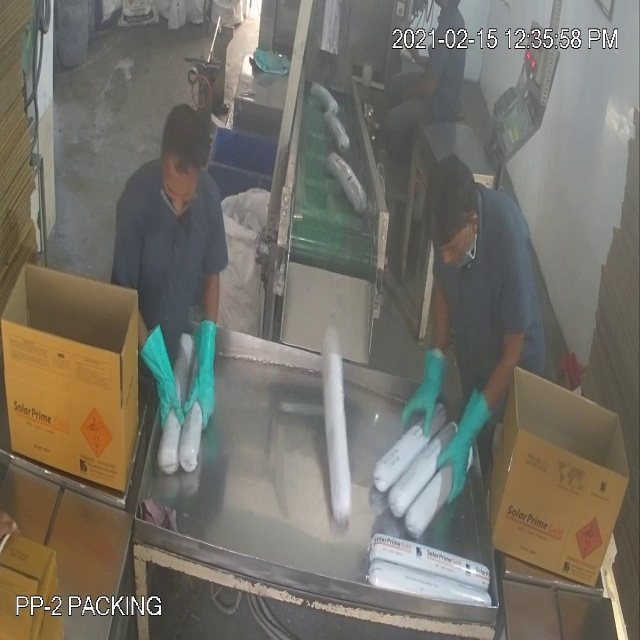Guantes: (436, 377, 497, 498), (136, 311, 183, 434), (401, 323, 448, 443), (182, 316, 224, 432)
